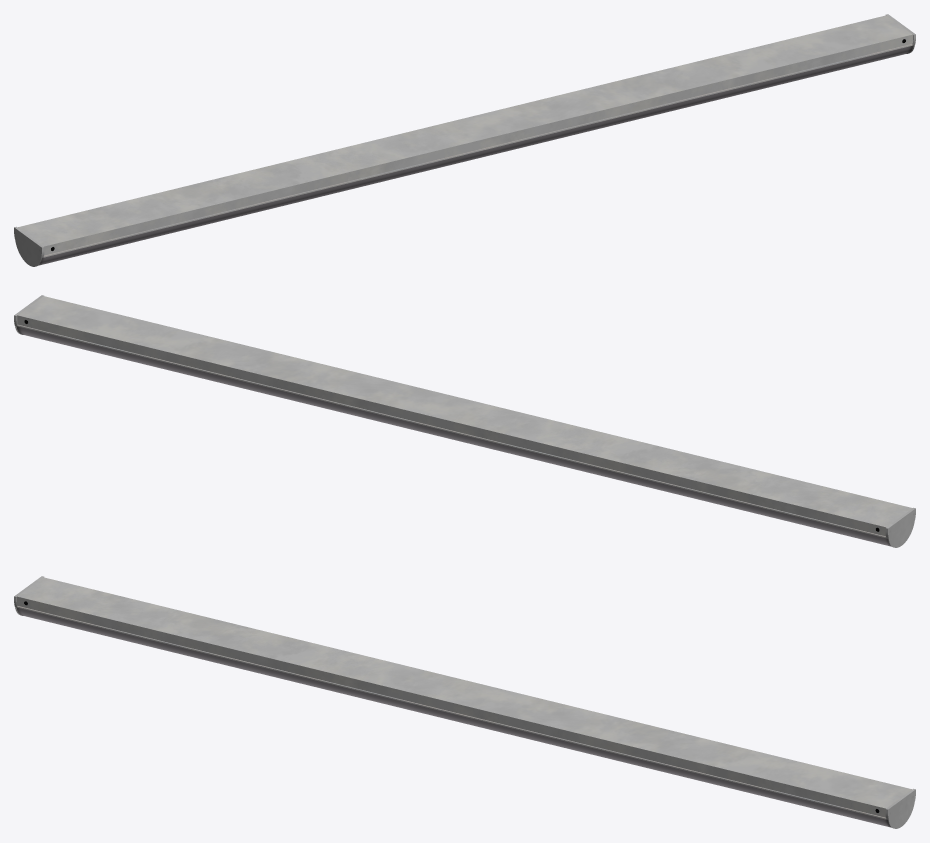
Rendered from Fluorescente_g.glb.
The picture shows the model from 3 angles, top to bottom: view 1: azimuth 30°, elevation 25°; view 2: azimuth 150°, elevation 25°; view 3: azimuth 330°, elevation 25°; orthographic projection.
Parts seen in each view (by area): view 1: mounted_fluorescent_lights_g.001; view 2: mounted_fluorescent_lights_g.001; view 3: mounted_fluorescent_lights_g.001.
Part boxes in pixels (x1,y1,x2,y2): mounted_fluorescent_lights_g.001: [14, 14, 915, 266]; mounted_fluorescent_lights_g.001: [14, 295, 915, 547]; mounted_fluorescent_lights_g.001: [14, 576, 915, 828].
Bounding box in the file's own units: 0.9055 × 0.027 × 0.0502.
Materials: 2 (2 with a texture image).
